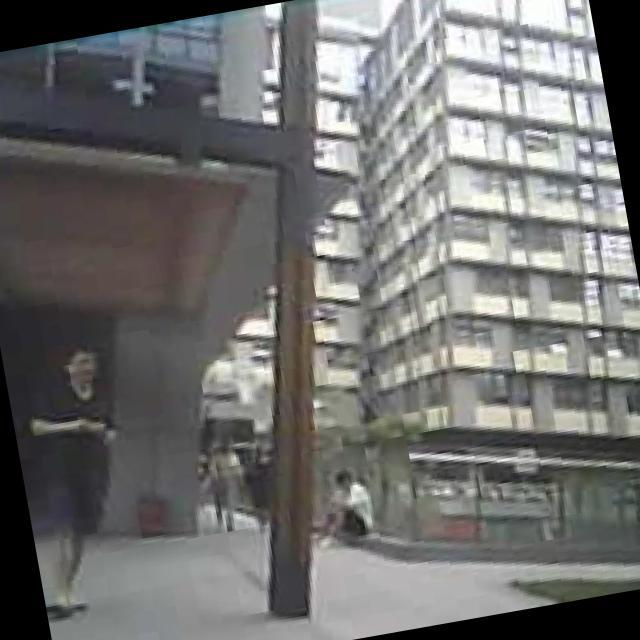person: (3, 344, 147, 624), (304, 466, 377, 546), (197, 432, 246, 538), (240, 442, 283, 524)
